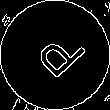P_SW: (24, 25, 86, 85)
